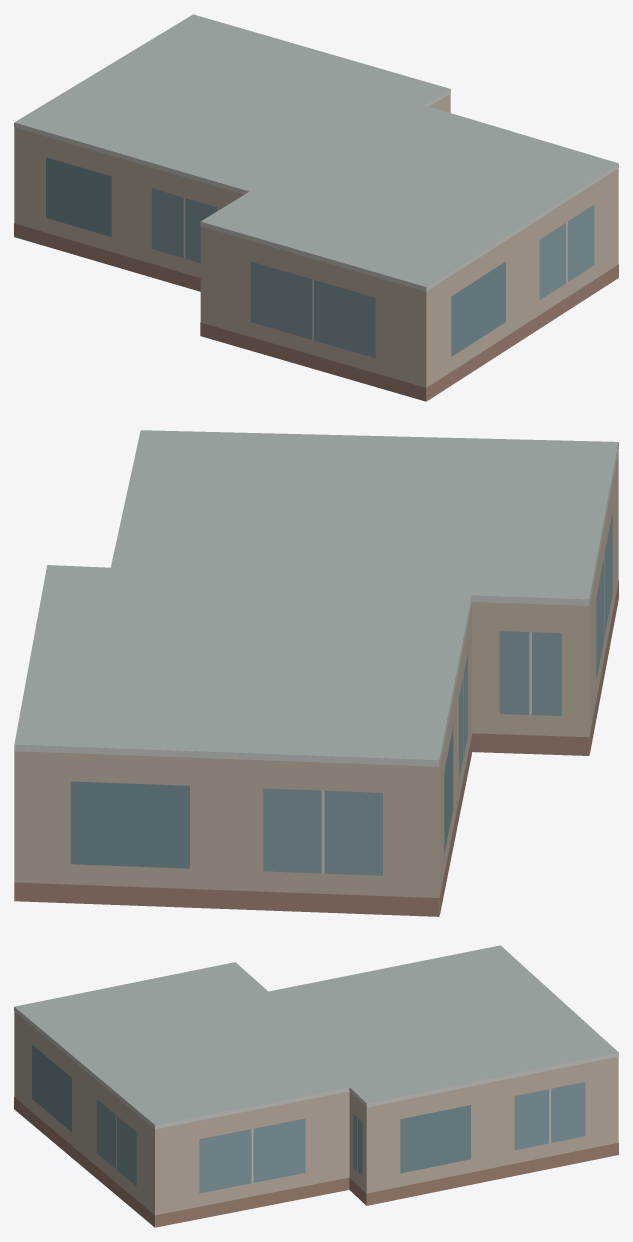
The model's file is survey-upis-32924863.glb.
3 renders of one model, top to bottom at view 1: azimuth 30°, elevation 25°; view 2: azimuth 150°, elevation 25°; view 3: azimuth 270°, elevation 25°, orthographic. The views are drawn at different scales.
Parts seen in each view (by area): view 1: survey-upis-32924863.tmp; view 2: survey-upis-32924863.tmp; view 3: survey-upis-32924863.tmp.
Part boxes in pixels (x1,y1,x2,y2): survey-upis-32924863.tmp: (14,14,618,401); survey-upis-32924863.tmp: (14,430,618,916); survey-upis-32924863.tmp: (14,945,618,1227).
Size of the model in its own units: 11.49 by 3.05 by 16.32.
